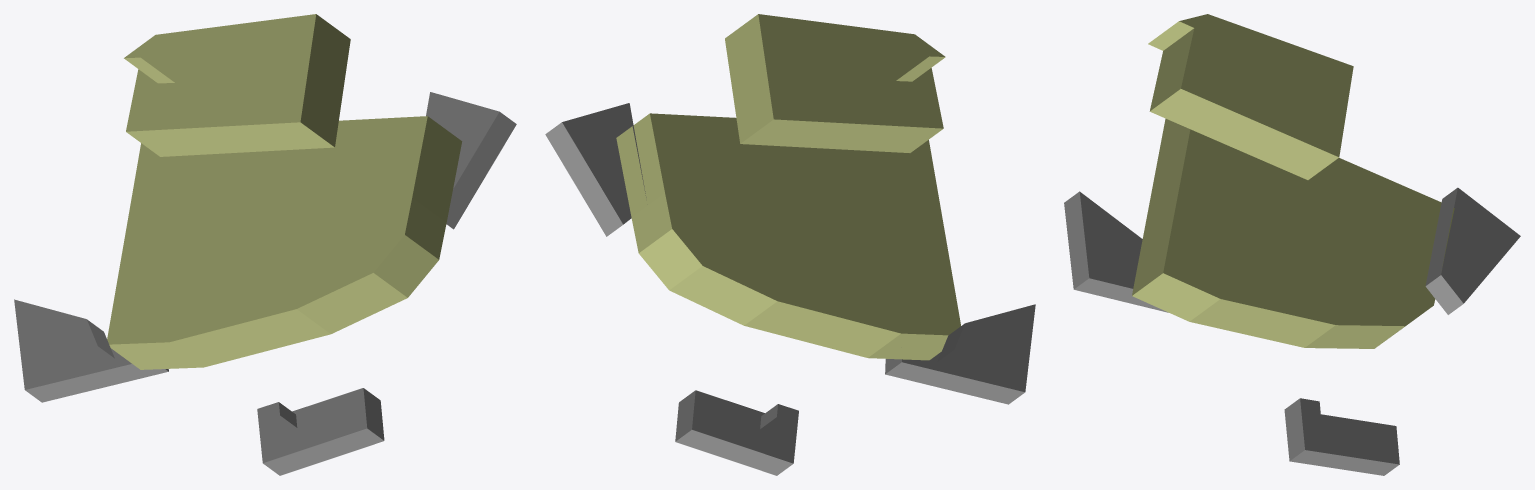
The picture shows the model from 3 angles, left to right: view 1: azimuth 30°, elevation 25°; view 2: azimuth 150°, elevation 25°; view 3: azimuth 330°, elevation 25°; orthographic projection. The views are drawn at different scales.
Visible parts, largest first — view 1: 0_1_1_3_3_1_3_3_1; view 2: 0_1_1_3_3_1_3_3_1; view 3: 0_1_1_3_3_1_3_3_1.
Boxes of the visible parts, bbox=[...] form: 0_1_1_3_3_1_3_3_1: bbox=[14, 14, 516, 475]; 0_1_1_3_3_1_3_3_1: bbox=[545, 14, 1035, 475]; 0_1_1_3_3_1_3_3_1: bbox=[1064, 14, 1520, 475].
Bounding box in the file's own units: 48.85 × 43.67 × 6.1.
